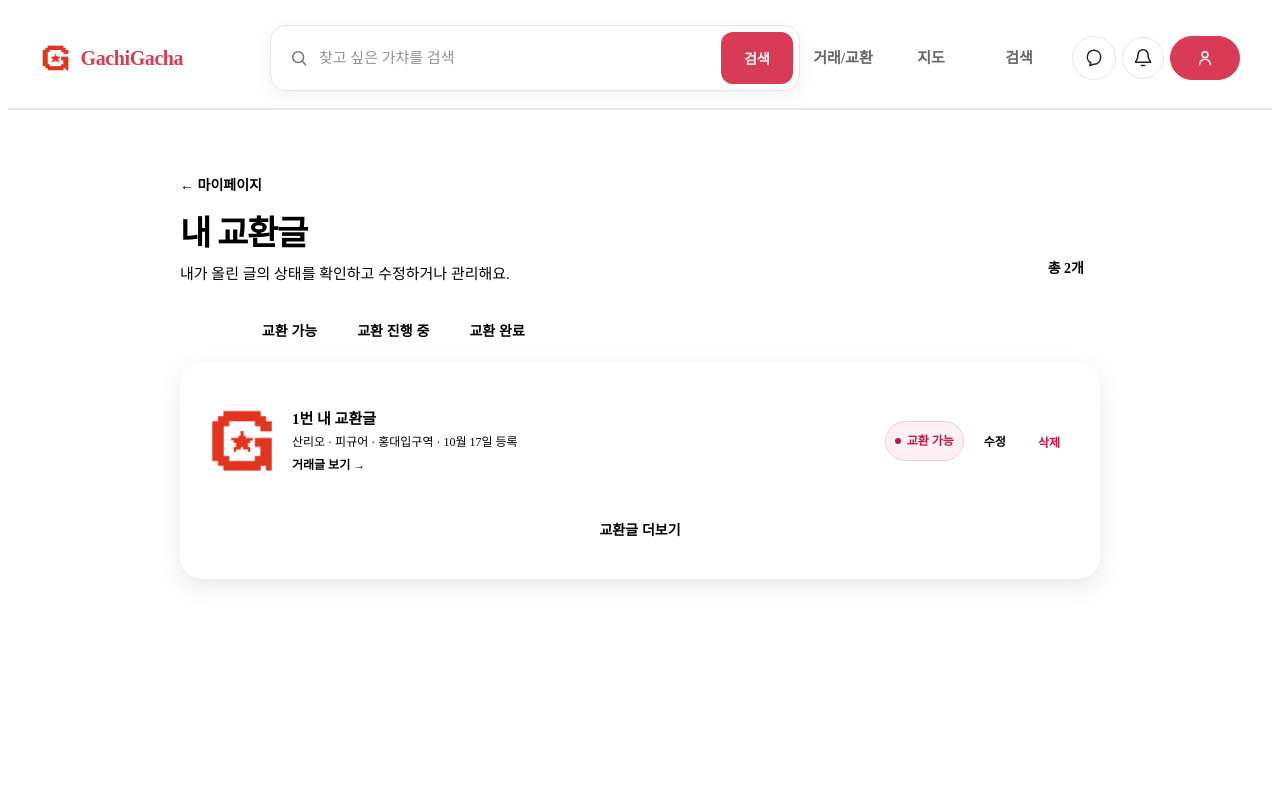
Scenario: 내 교환글 전체보기 › 더보기를 누르면 다음 페이지를 기존 내역에 이어 붙인다
The image size is (1280, 800).
Check: the heading "1번 내 교환글" is shown, box [292,410,376,426]
Click the button "교환글 더보기" at [640, 529], box [550,507,730,551]
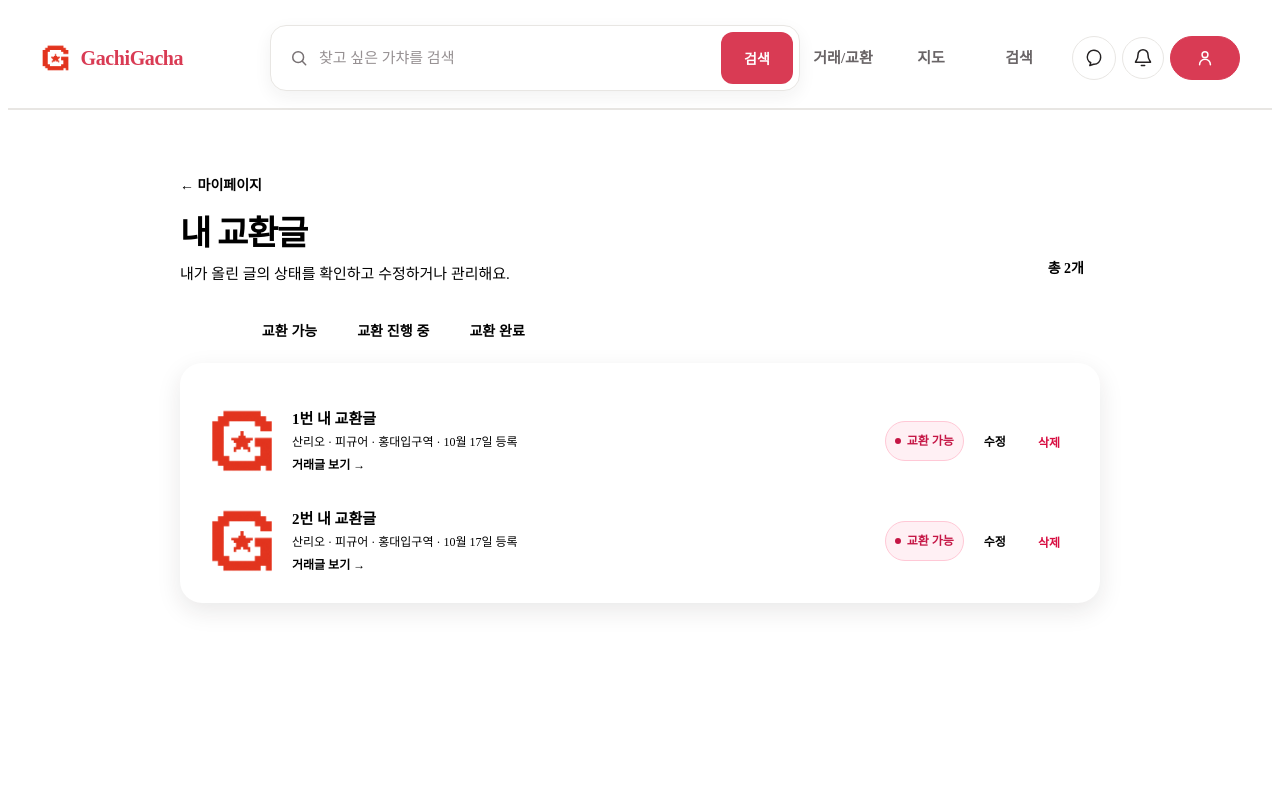
Check: the heading "1번 내 교환글" is shown, box [292,410,376,426]
Check: the heading "2번 내 교환글" is shown, box [292,510,376,526]
